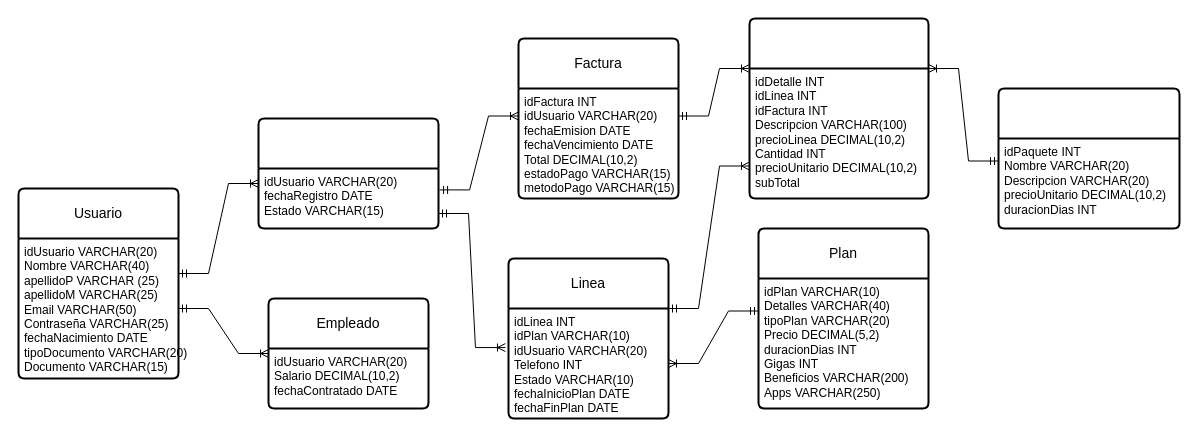
Some shapes in this 1197 by 436 pixel diagram are drawn without their labels. The shapes that lost their labels are listed below. From the top down, each one's box as (x1, y1, x2, y2) in pixels, then its label:
(748, 17, 929, 199): detalleFactura
(257, 117, 439, 229): Cliente
(997, 87, 1180, 229): paqueteAdicional
